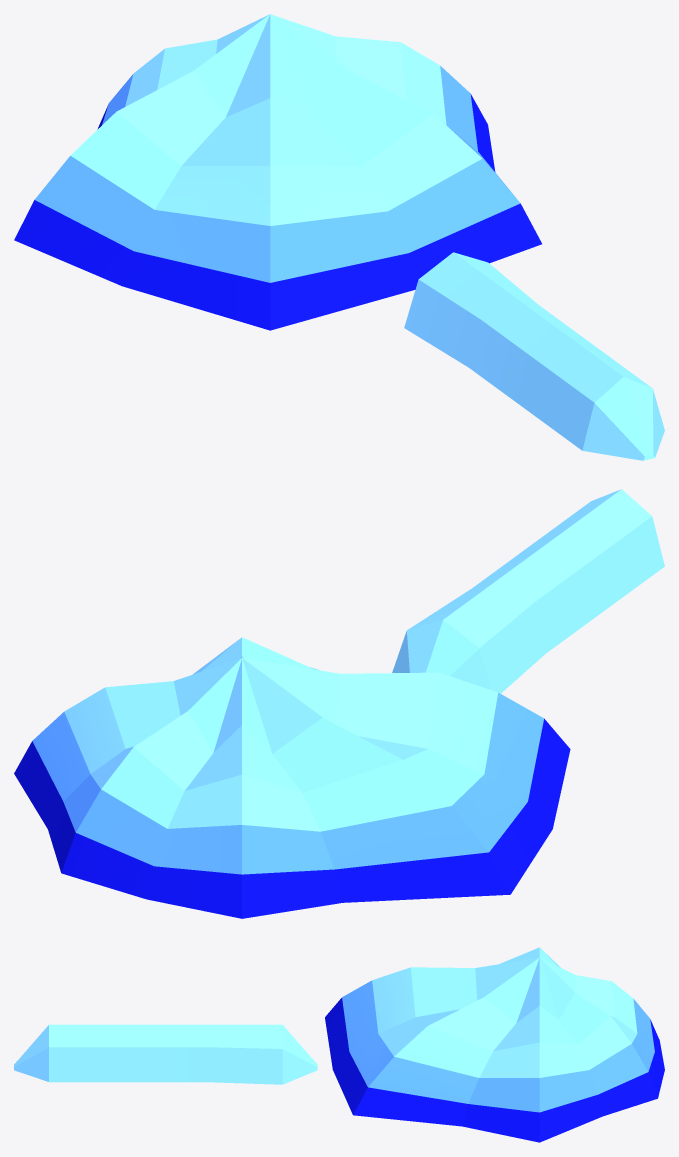
File: shot_ice_150.glb
3 views of the same model, one above another, from view 1: azimuth 30°, elevation 25°; view 2: azimuth 150°, elevation 25°; view 3: azimuth 270°, elevation 25° (orthographic). The views are drawn at different scales.
Parts seen in each view (by area): view 1: shot_ice_150_cap, shot_ice_150_trail; view 2: shot_ice_150_cap, shot_ice_150_trail; view 3: shot_ice_150_cap, shot_ice_150_trail.
Part boxes in pixels (left/top/right/bottom): shot_ice_150_cap: left=14, top=14, right=541, bottom=330; shot_ice_150_trail: left=404, top=252, right=664, bottom=460; shot_ice_150_cap: left=14, top=637, right=570, bottom=918; shot_ice_150_trail: left=392, top=489, right=664, bottom=693; shot_ice_150_cap: left=325, top=947, right=664, bottom=1142; shot_ice_150_trail: left=14, top=1024, right=317, bottom=1084.
Size of the model in its own units: 4.82 by 1.59 by 8.36.
